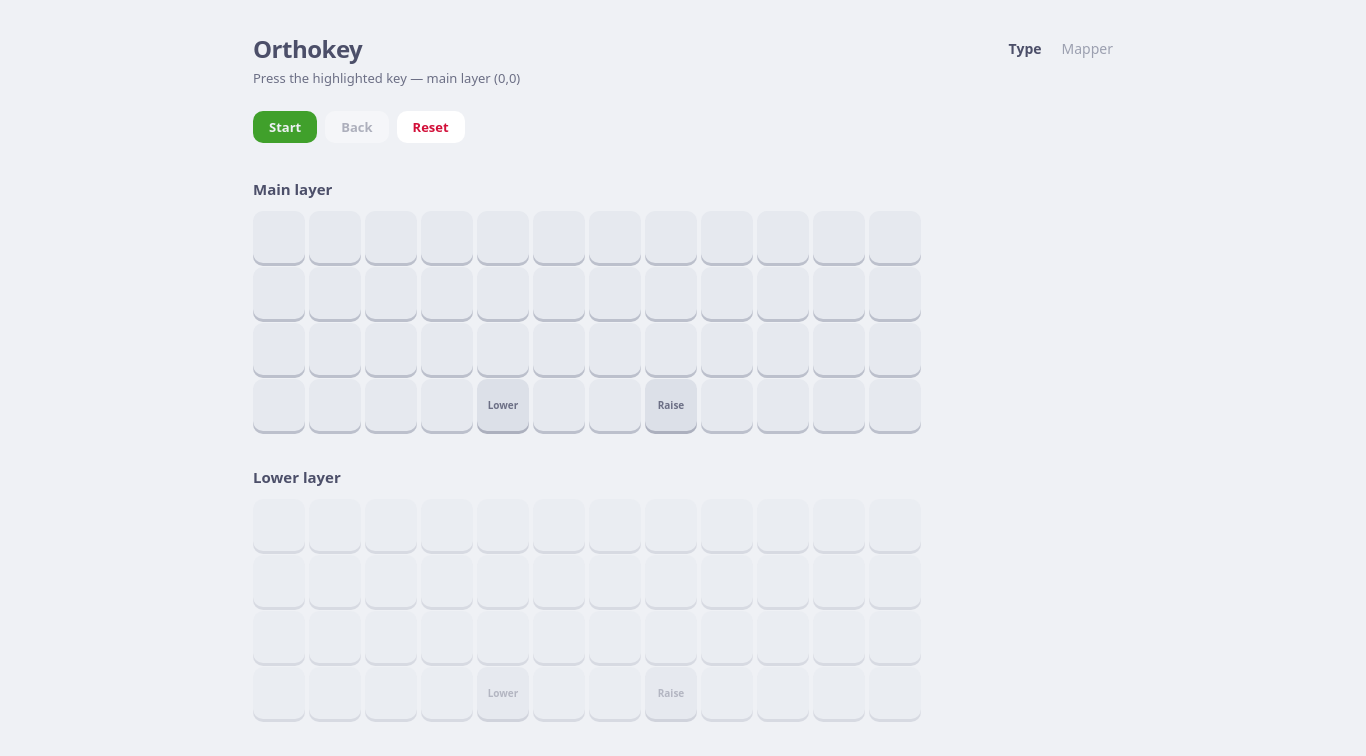
it: custom label modal › records the custom label on submit and closes modal
Click the button "Start" at (285, 127), box [253, 111, 317, 143]
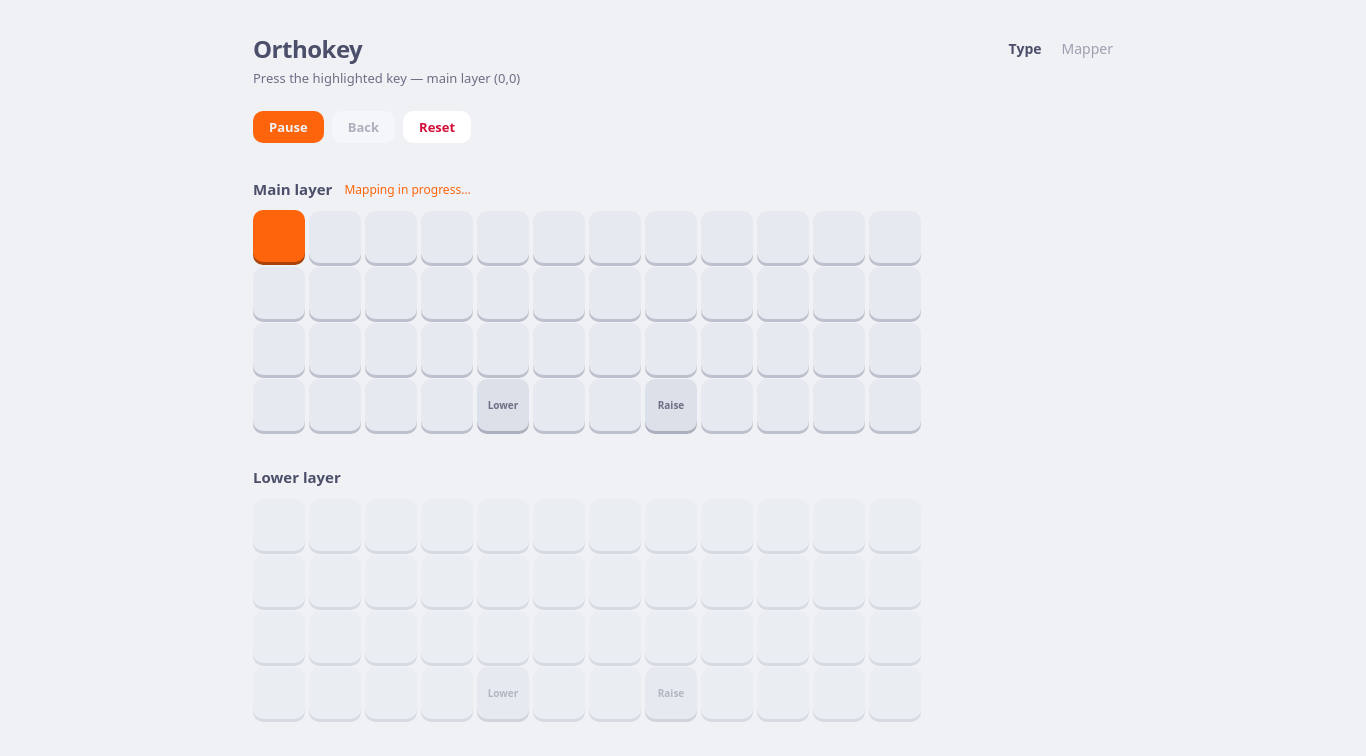
Click the element named "main layer key at 0,0" at (279, 236), box [253, 210, 305, 262]
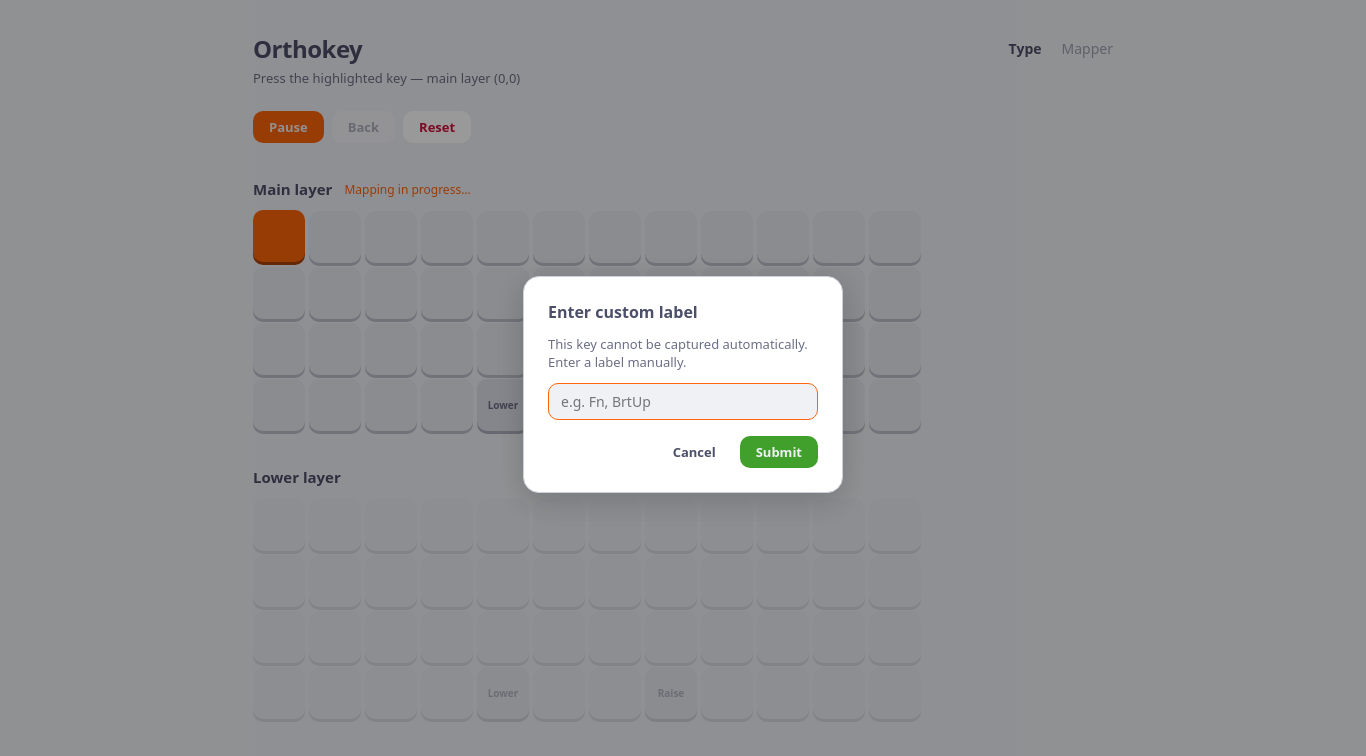
Type "Fn" into the field at (683, 401), box [548, 382, 818, 420]
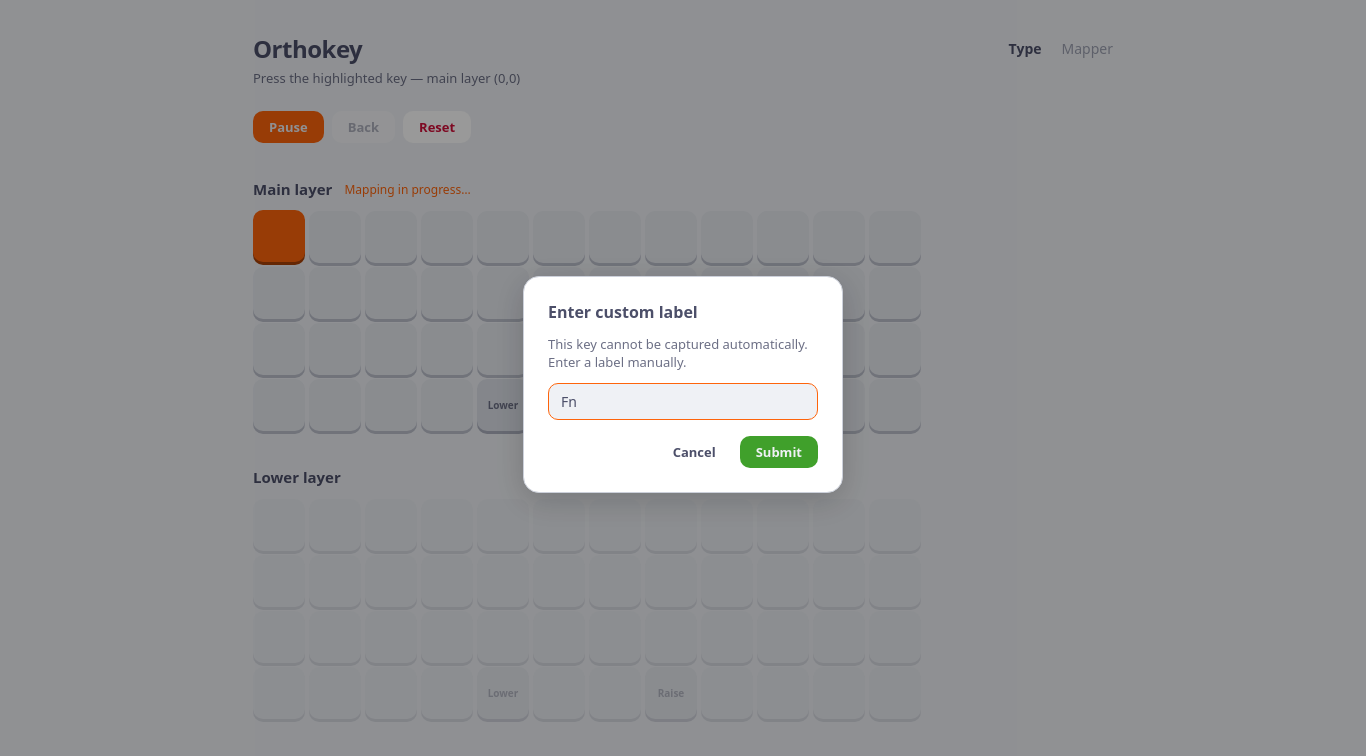
Click the button "Submit" at (779, 452), box [740, 436, 818, 468]
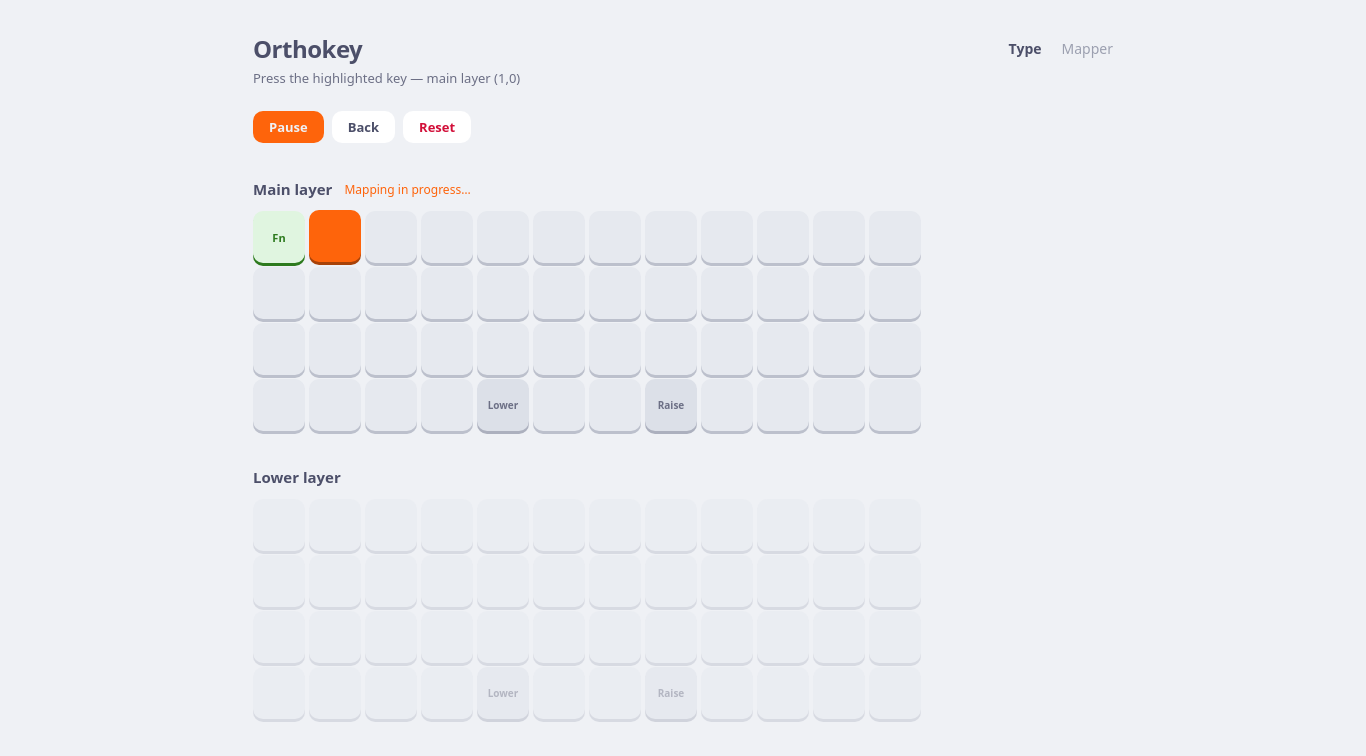
Check: the heading "Enter custom label" is gone
